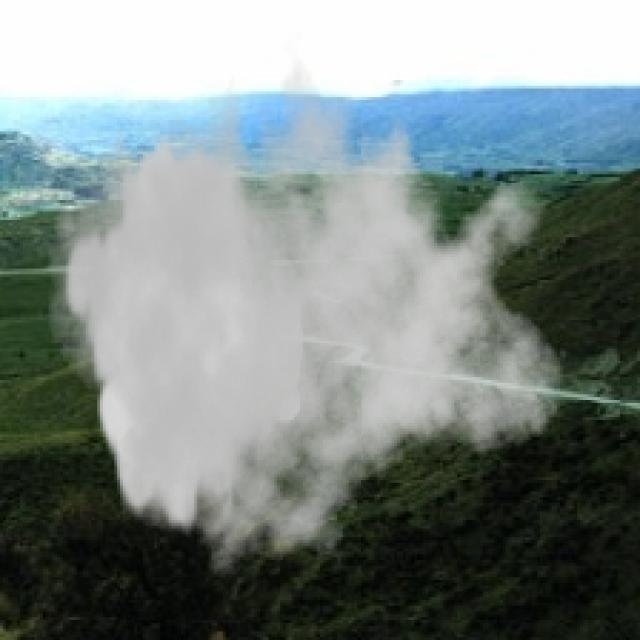smoke: (46, 31, 566, 586)
